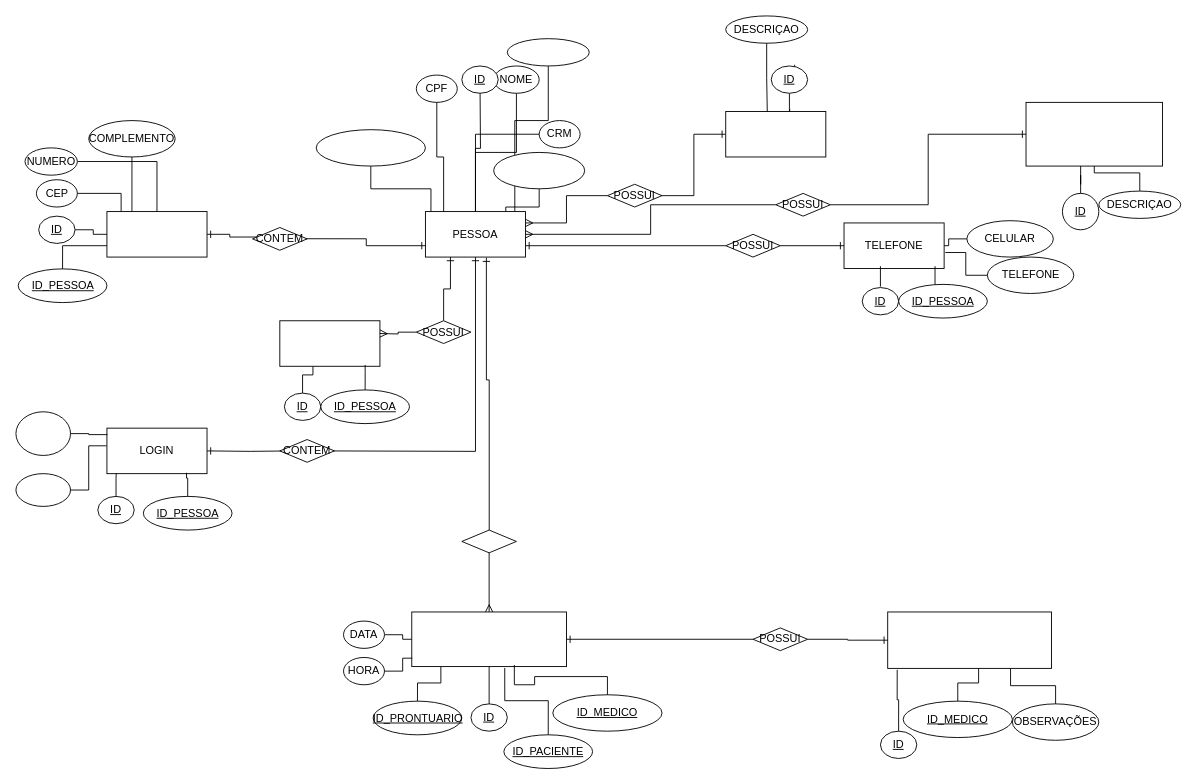
This 1197x784 diagram has some shape labels left out. The centre of each missing label's shape, as x and y in pixels:
"AGENDAMENTO_PACIENTE" belongs at point 488,639.
"CATEGORIA" belongs at point 775,134.
"EMAIL" belongs at point 329,343.
"ENDEREÇO" belongs at point 156,234.
"ESPECIALIDADE_MEDICO" belongs at point 1094,133.
"ID_CATEGORIA" belongs at point 539,170.
"ID_ESPECIALIDADE" belongs at point 370,147.
"PERFIL" belongs at point 43,433.
"PRONTUARIO_MEDICO" belongs at point 969,639.
"REALIZA" belongs at point 488,541.
"SENHA" belongs at point 43,489.
"SOBRENOME" belongs at point 547,52.
